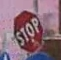stop: (12, 8, 43, 54)
